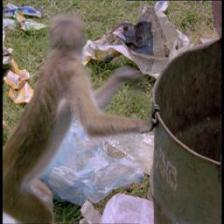monkey: (42, 12, 88, 54)
